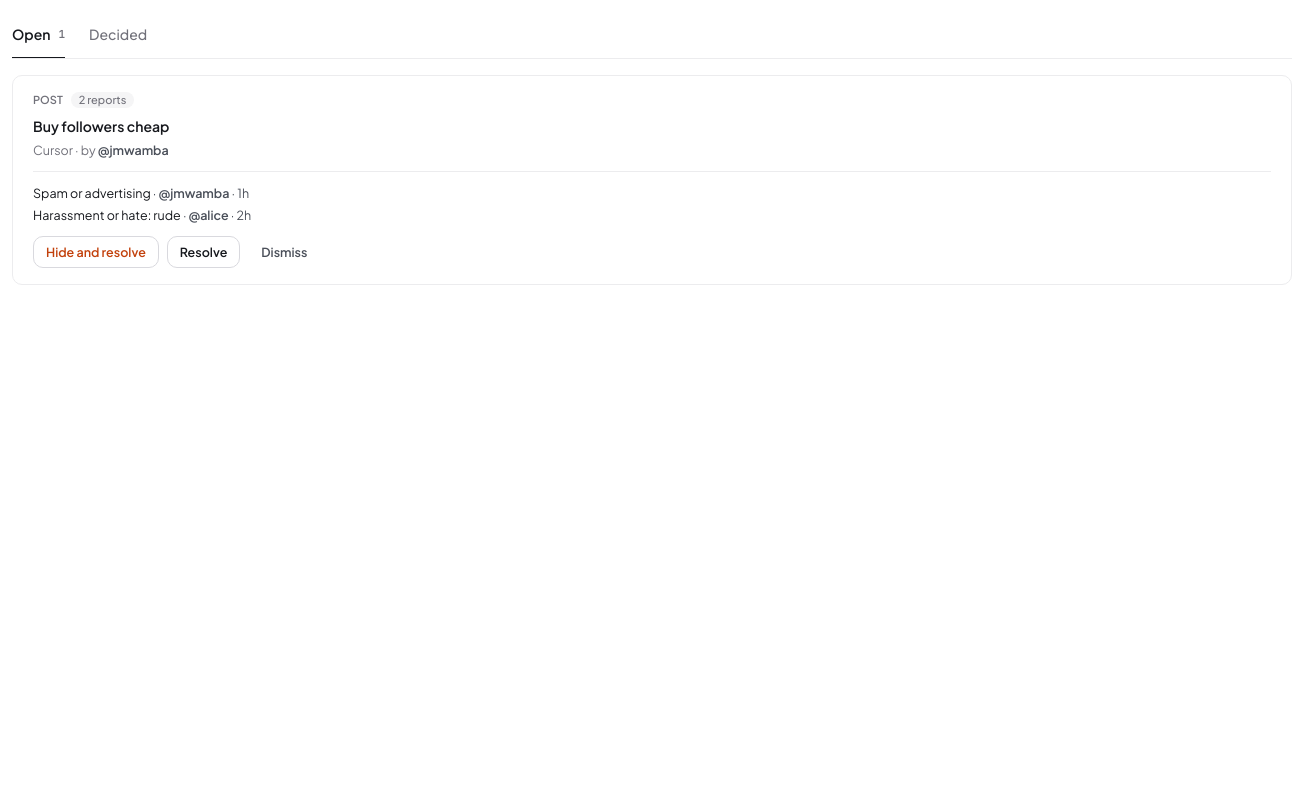
reports queue › shows each reported thing once with every reason, and hides-and-resolves
Expected: the link "Buy followers cheap" is shown, [33,117,169,135]
Expected: the text "2 reports" is shown, [71,92,134,108]
Click the button "Hide and resolve". click: (96, 252)
box: [33,236,159,268]
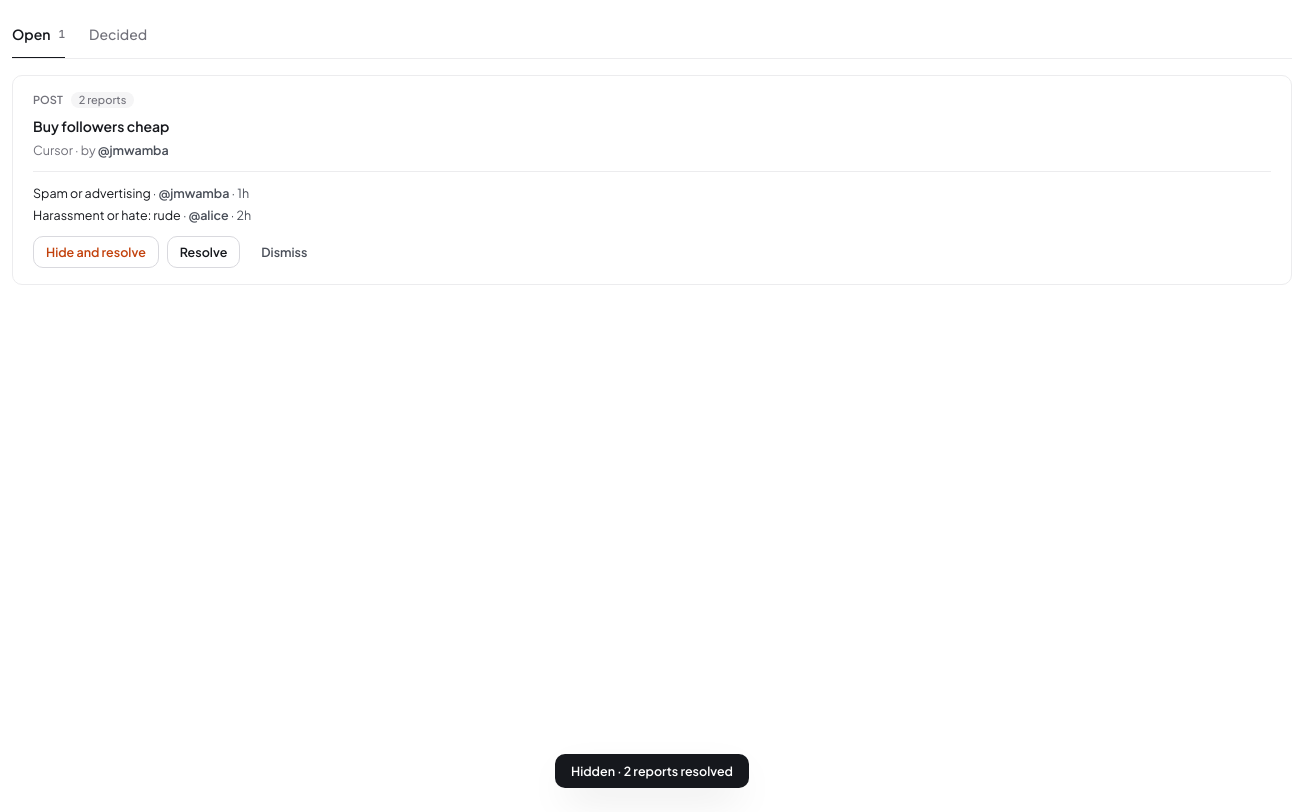
Expected: the text "Hidden · 2 reports resolved" is shown, [571,762,733,780]
